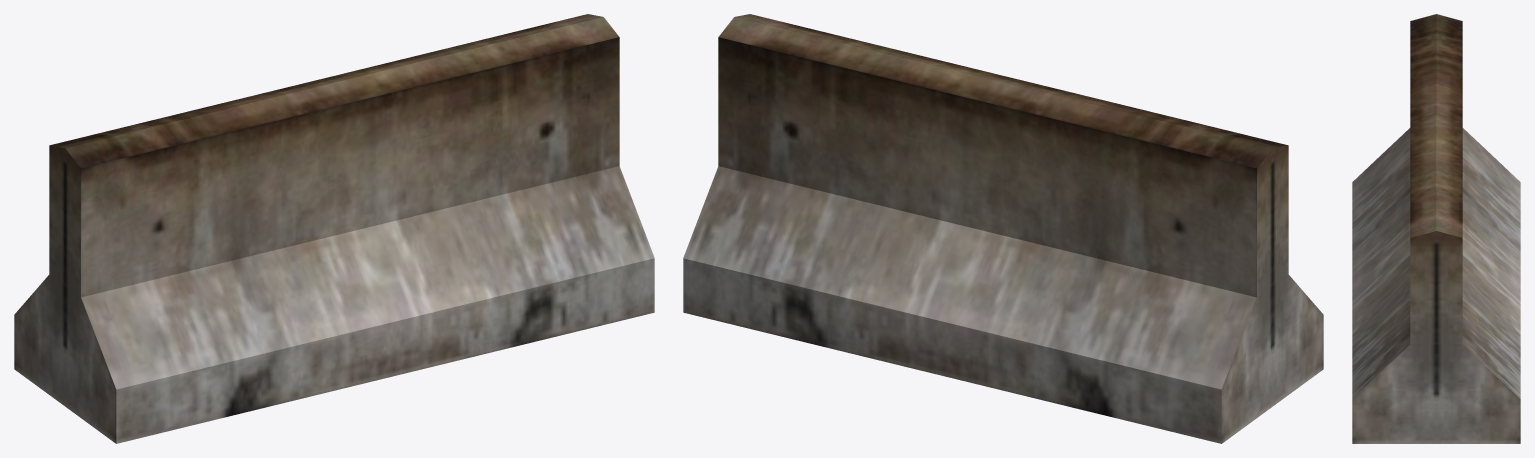
The model's file is barricade.glb.
The picture shows the model from 3 angles, left to right: view 1: azimuth 30°, elevation 25°; view 2: azimuth 150°, elevation 25°; view 3: azimuth 270°, elevation 25°; orthographic projection. The views are drawn at different scales.
Parts seen in each view (by area): view 1: barricade__concrete_barriers; view 2: barricade__concrete_barriers; view 3: barricade__concrete_barriers.
Part boxes in pixels (x1,y1,x2,y2): barricade__concrete_barriers: (14,14,654,443); barricade__concrete_barriers: (683,14,1323,443); barricade__concrete_barriers: (1352,14,1520,443).
Bounding box in the file's own units: 3.2 × 1.47 × 1.05.
1 material, 1 textured.
